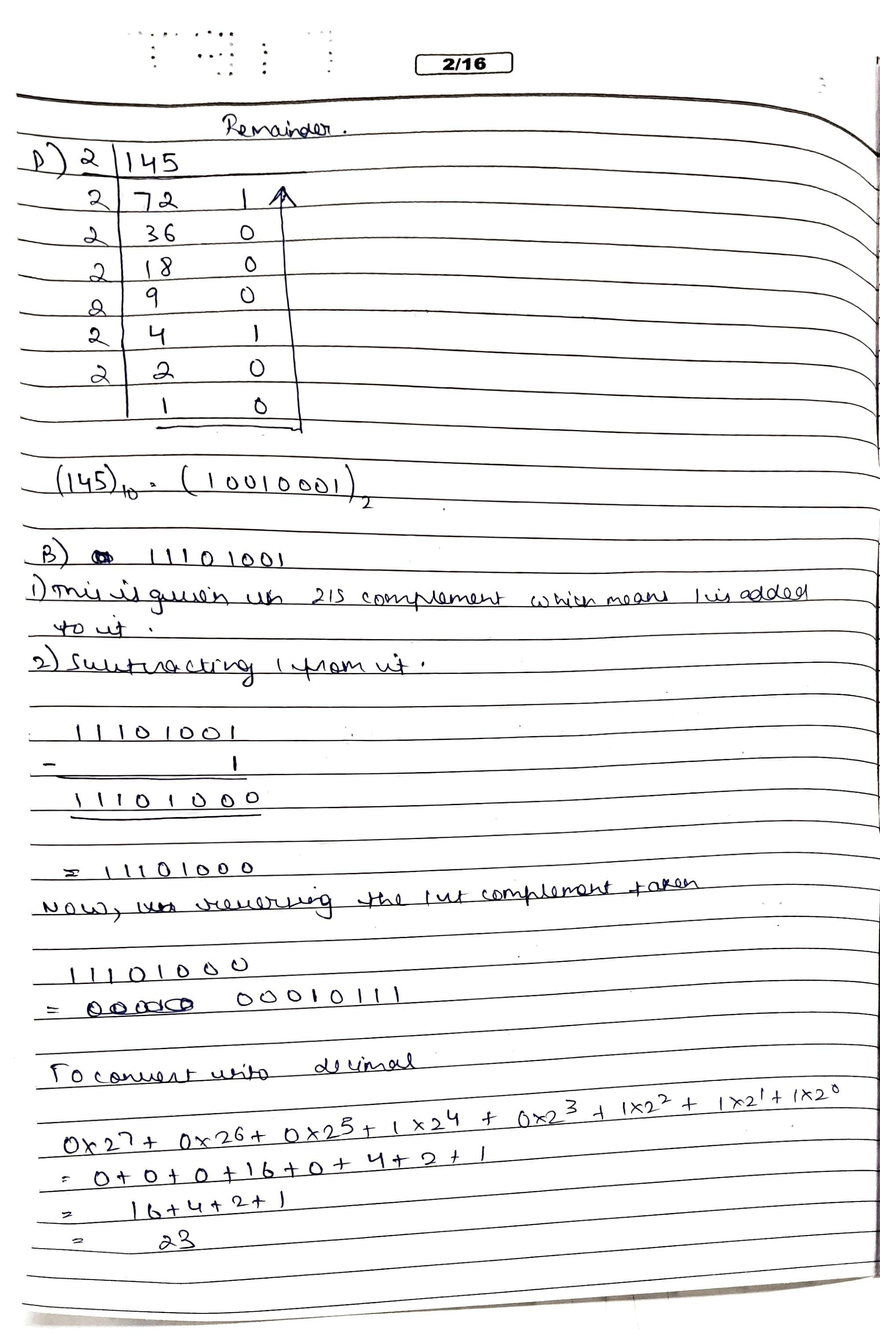cuttings: (85, 996, 195, 1019), (135, 900, 177, 915), (91, 548, 114, 566)
